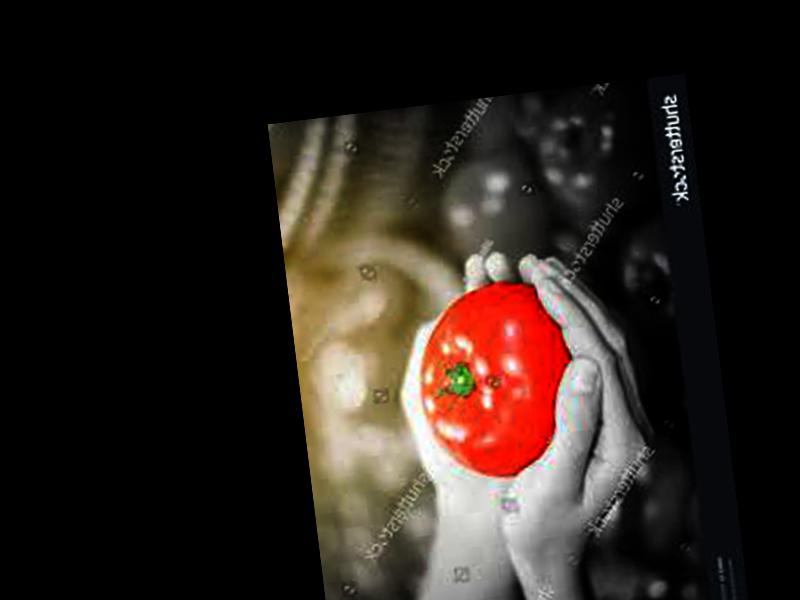Tomato: (409, 276, 583, 485)
